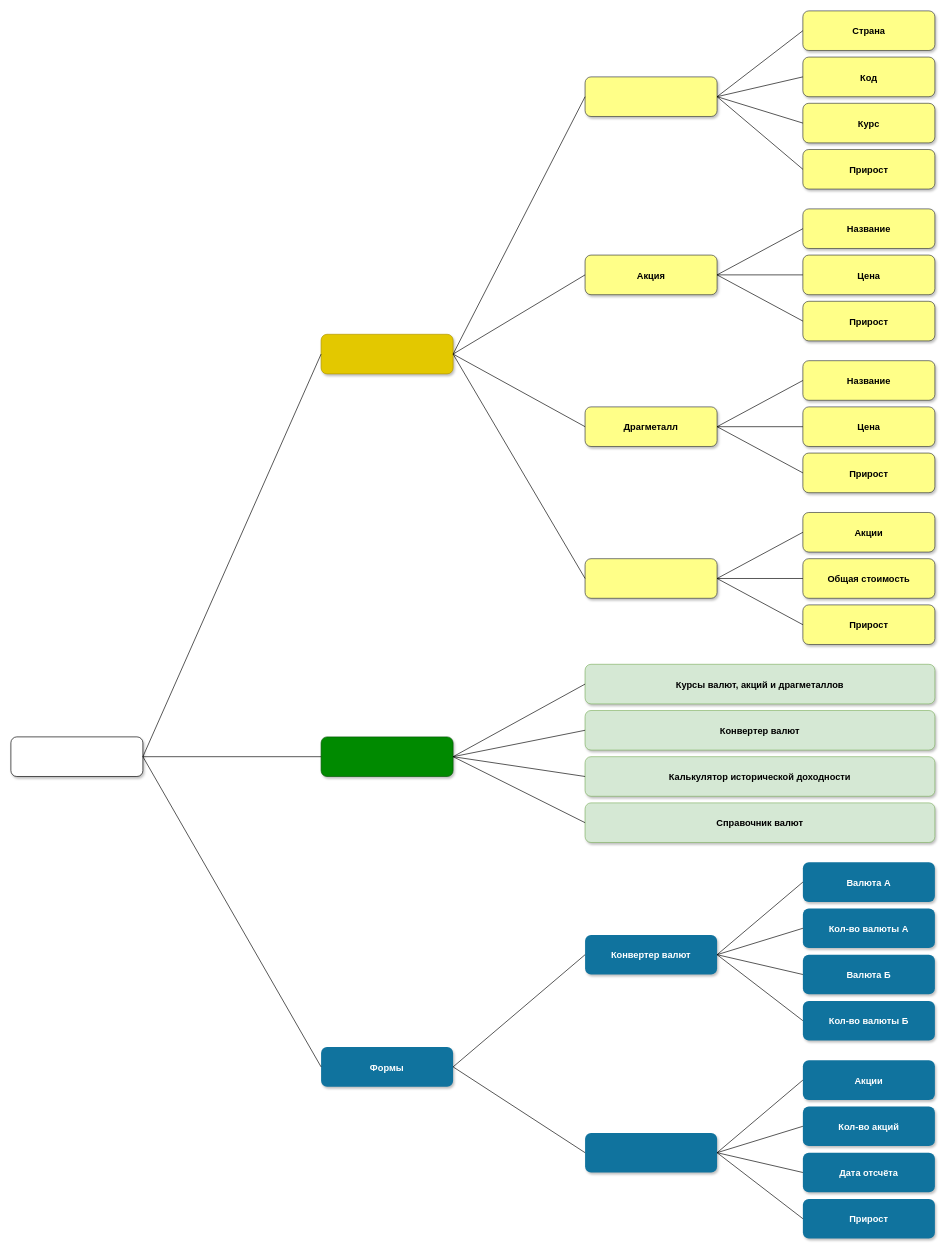
Some shapes in this 946 by 1249 pixel diagram are drawn without their labels. The centre of each missing label's shape, as x and y in pixels:
"Fraction643" belongs at (77,757).
"БД" belongs at (387,355).
"Валюта" belongs at (651,97).
"Калькулятор доходности" belongs at (651,1153).
"Портфель акций" belongs at (651,579).
"Страницы" belongs at (387,757).
